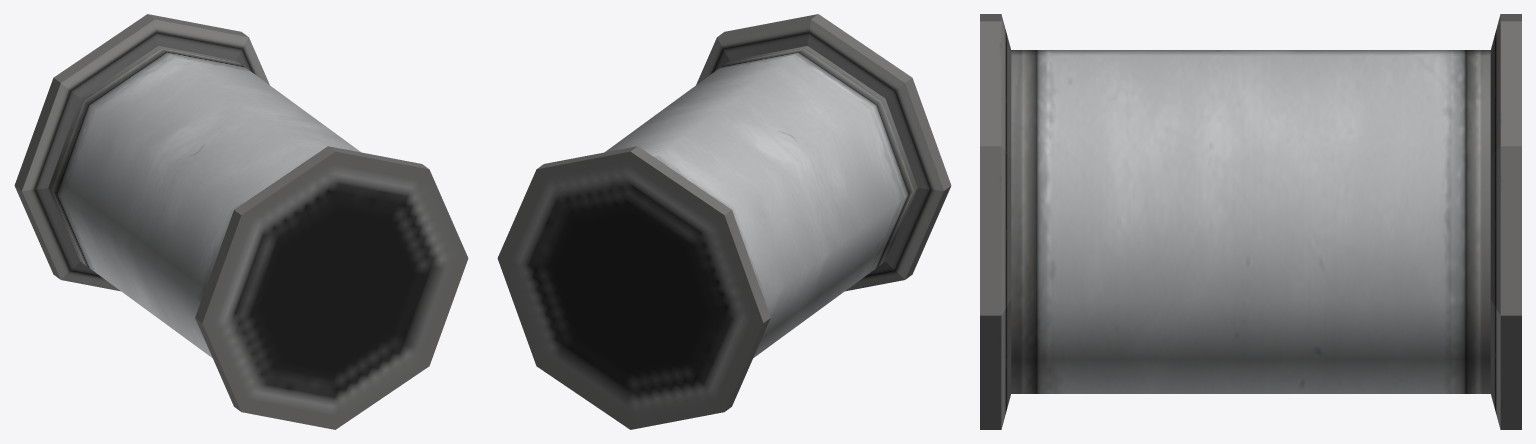
The model's file is pipe_I.glb.
The picture shows the model from 3 angles, left to right: view 1: azimuth 30°, elevation 25°; view 2: azimuth 150°, elevation 25°; view 3: azimuth 270°, elevation 25°; orthographic projection. The views are drawn at different scales.
Visible parts, largest first — view 1: zhuti.II.019; view 2: zhuti.II.019; view 3: zhuti.II.019.
Part boxes in pixels (x1,y1,x2,y2): zhuti.II.019: [14, 14, 468, 429]; zhuti.II.019: [497, 14, 951, 429]; zhuti.II.019: [980, 14, 1521, 429].
Size of the model in its own units: 8.17 by 8.17 by 10.
1 material, 1 textured.
